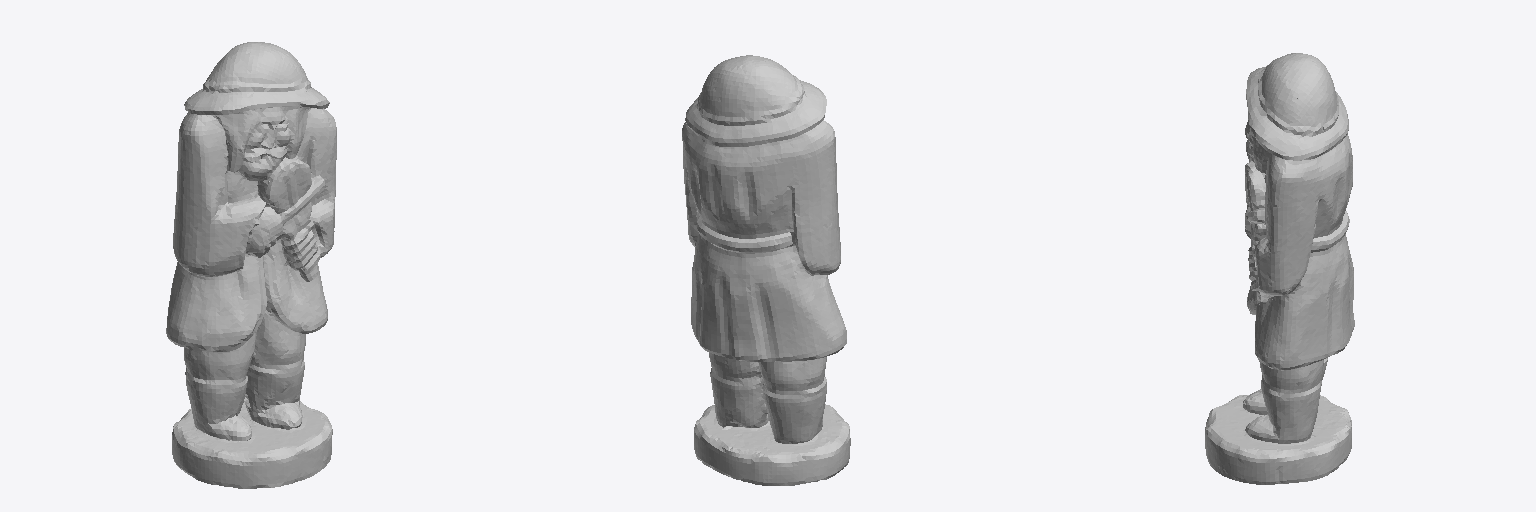
File: Hojda23.obj
3 views of the same model, side by side, from view 1: azimuth 30°, elevation 25°; view 2: azimuth 150°, elevation 25°; view 3: azimuth 270°, elevation 25° (orthographic).
Parts seen in each view (by area): view 1: Hojda23_lowpoly; view 2: Hojda23_lowpoly; view 3: Hojda23_lowpoly.
Boxes of the visible parts, x1,y1,x2,y2 form: Hojda23_lowpoly: [166, 42, 336, 488]; Hojda23_lowpoly: [682, 55, 850, 485]; Hojda23_lowpoly: [1205, 53, 1354, 484].
Bounding box in the file's own units: 2.5 × 6.01 × 2.03.